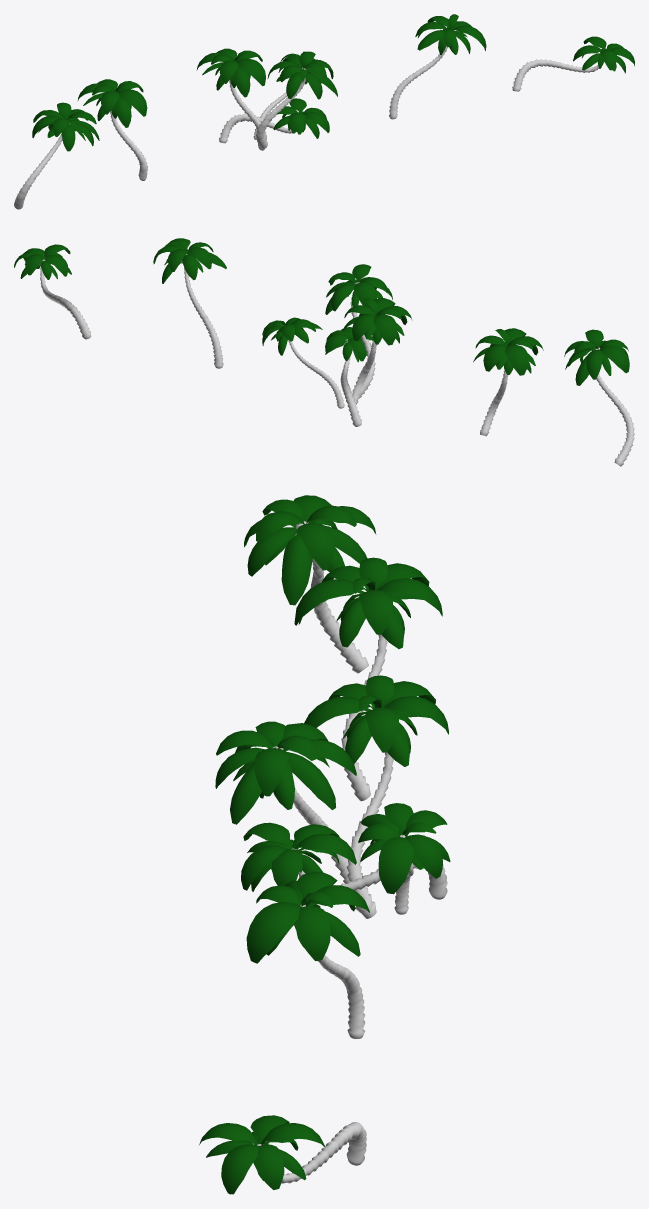
Rendered from palm.obj.
3 renders of one model, top to bottom at view 1: azimuth 30°, elevation 25°; view 2: azimuth 150°, elevation 25°; view 3: azimuth 270°, elevation 25°, orthographic. The views are drawn at different scales.
Visible parts, largest first — view 1: PalmTreeSet_LP.027_Cylinder.077, PalmTreeSet_LP.028_Cylinder.078, PalmTreeSet_LP.024_Cylinder.074, PalmTreeSet_LP.020_Cylinder.073, PalmTreeSet_LP.026_Cylinder.076, PalmTreeSet_LP.029_Cylinder.079, PalmTreeSet_LP.025_Cylinder.075, PalmTreeSet_LP.011_Cylinder.072; view 2: PalmTreeSet_LP.028_Cylinder.078, PalmTreeSet_LP.027_Cylinder.077, PalmTreeSet_LP.020_Cylinder.073, PalmTreeSet_LP.026_Cylinder.076, PalmTreeSet_LP.024_Cylinder.074, PalmTreeSet_LP.029_Cylinder.079, PalmTreeSet_LP.011_Cylinder.072, PalmTreeSet_LP.025_Cylinder.075; view 3: PalmTreeSet_LP.028_Cylinder.078, PalmTreeSet_LP.024_Cylinder.074, PalmTreeSet_LP.020_Cylinder.073, PalmTreeSet_LP.026_Cylinder.076, PalmTreeSet_LP.027_Cylinder.077, PalmTreeSet_LP.029_Cylinder.079, PalmTreeSet_LP.025_Cylinder.075, PalmTreeSet_LP.011_Cylinder.072.
Part boxes in pixels (x1,y1,x2,y2): PalmTreeSet_LP.027_Cylinder.077: (77,79,147,180); PalmTreeSet_LP.028_Cylinder.078: (14,102,99,209); PalmTreeSet_LP.024_Cylinder.074: (256,51,337,148); PalmTreeSet_LP.020_Cylinder.073: (196,48,266,150); PalmTreeSet_LP.026_Cylinder.076: (389,14,486,119); PalmTreeSet_LP.029_Cylinder.079: (512,36,634,91); PalmTreeSet_LP.025_Cylinder.075: (219,98,329,143); PalmTreeSet_LP.011_Cylinder.072: (253,51,333,139); PalmTreeSet_LP.028_Cylinder.078: (564,329,634,466); PalmTreeSet_LP.027_Cylinder.077: (473,328,543,436); PalmTreeSet_LP.020_Cylinder.073: (342,298,412,404); PalmTreeSet_LP.026_Cylinder.076: (153,238,226,368); PalmTreeSet_LP.024_Cylinder.074: (325,264,392,400); PalmTreeSet_LP.029_Cylinder.079: (14,244,91,339); PalmTreeSet_LP.011_Cylinder.072: (262,317,344,408); PalmTreeSet_LP.025_Cylinder.075: (325,327,373,426); PalmTreeSet_LP.028_Cylinder.078: (244,495,376,673); PalmTreeSet_LP.024_Cylinder.074: (215,721,372,913); PalmTreeSet_LP.020_Cylinder.073: (304,675,448,918); PalmTreeSet_LP.026_Cylinder.076: (246,871,369,1038); PalmTreeSet_LP.027_Cylinder.077: (294,557,442,801); PalmTreeSet_LP.029_Cylinder.079: (199,1115,366,1194); PalmTreeSet_LP.025_Cylinder.075: (241,822,447,899); PalmTreeSet_LP.011_Cylinder.072: (358,803,450,914).
Bounding box in the file's own units: 47.38 × 7.94 × 8.72.
